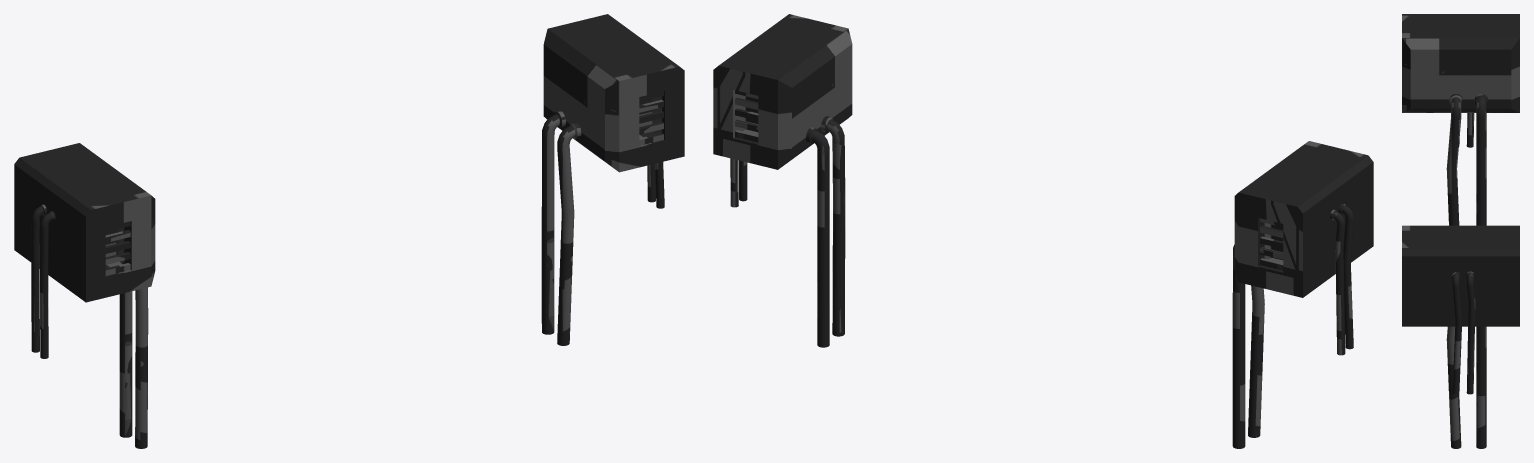
Rendered from Generator.fbx.
3 renders of one model, left to right at view 1: azimuth 30°, elevation 25°; view 2: azimuth 150°, elevation 25°; view 3: azimuth 270°, elevation 25°, orthographic. The views are drawn at different scales.
Parts seen in each view (by area): view 1: Cube; view 2: Cube; view 3: Cube.
Part boxes in pixels (x1,y1,x2,y2): Cube: (14,14,684,448); Cube: (713,14,1373,448); Cube: (1402,14,1519,448).
Size of the model in its own units: 27.91 by 12.01 by 5.57.
